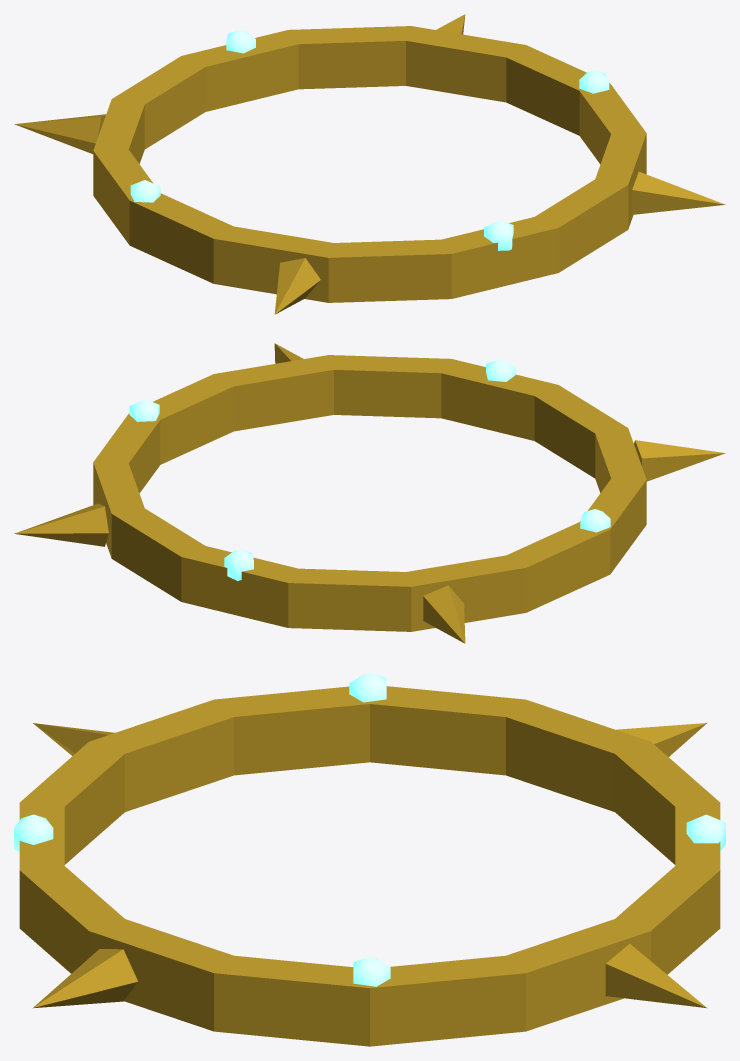
The model's file is dc_collar.glb.
3 renders of one model, top to bottom at view 1: azimuth 30°, elevation 25°; view 2: azimuth 150°, elevation 25°; view 3: azimuth 270°, elevation 25°, orthographic. The views are drawn at different scales.
Parts seen in each view (by area): view 1: part.dc_collar; view 2: part.dc_collar; view 3: part.dc_collar.
Part boxes in pixels (bbox=[...]): part.dc_collar: bbox=[14, 14, 725, 314]; part.dc_collar: bbox=[14, 343, 725, 643]; part.dc_collar: bbox=[14, 672, 725, 1046].
Bounding box in the file's own units: 0.6624 × 0.0817 × 0.6563.
